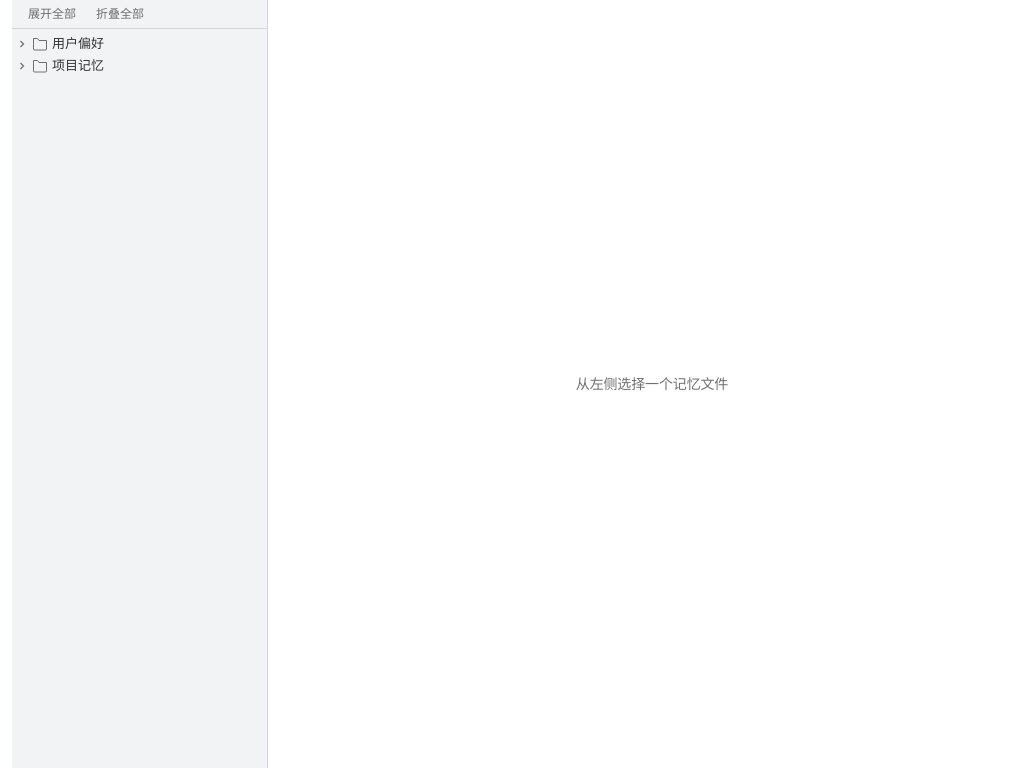
MemoryManagerDialog › F-4: shows user-visible feedback when delete fails
Expected: the text "用户偏好" is shown, [52,35,104,52]
Click the list item "用户偏好".
click(140, 44)  # box [12,33,267,55]
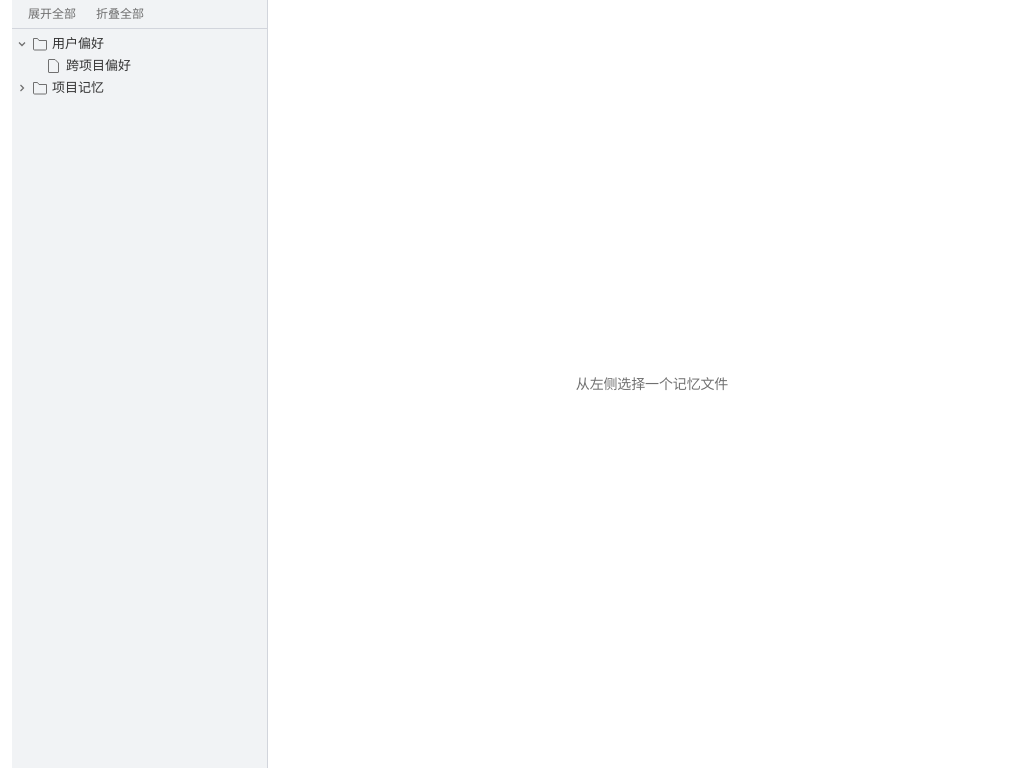
Expected: the text "跨项目偏好" is shown, [66,57,131,74]
Right-click the list item "跨项目偏好".
right_click(140, 66)  # box [12,55,267,77]
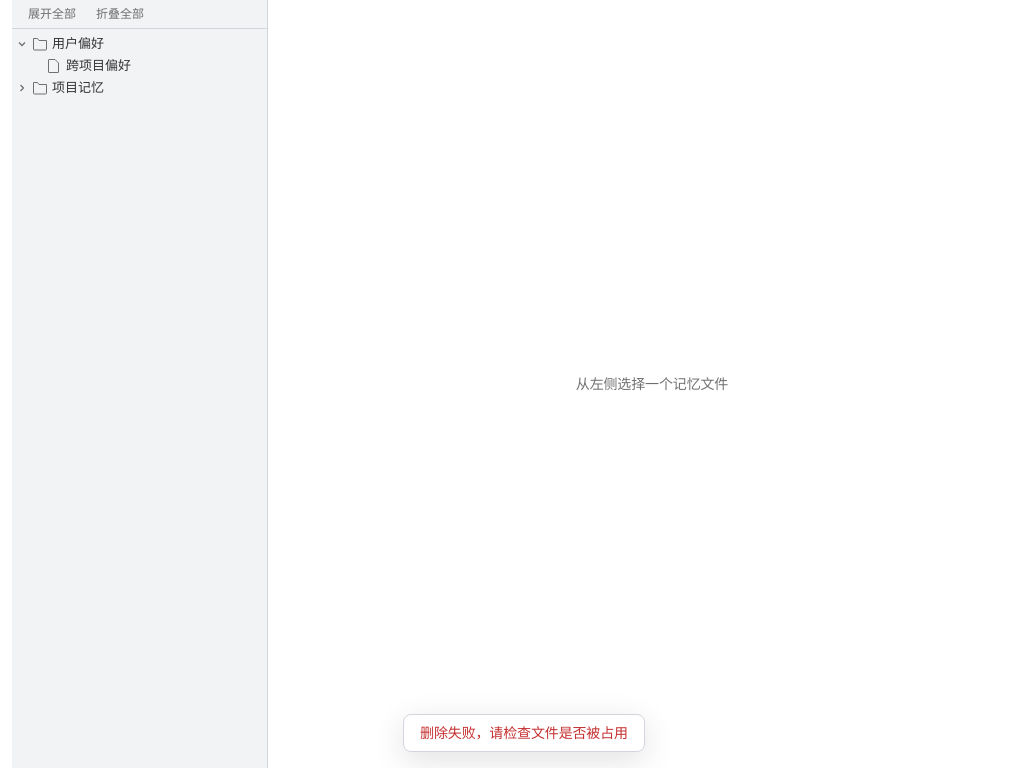
Expected: the message "删除失败，请检查文件是否被占用" is shown, [403,714,645,752]
